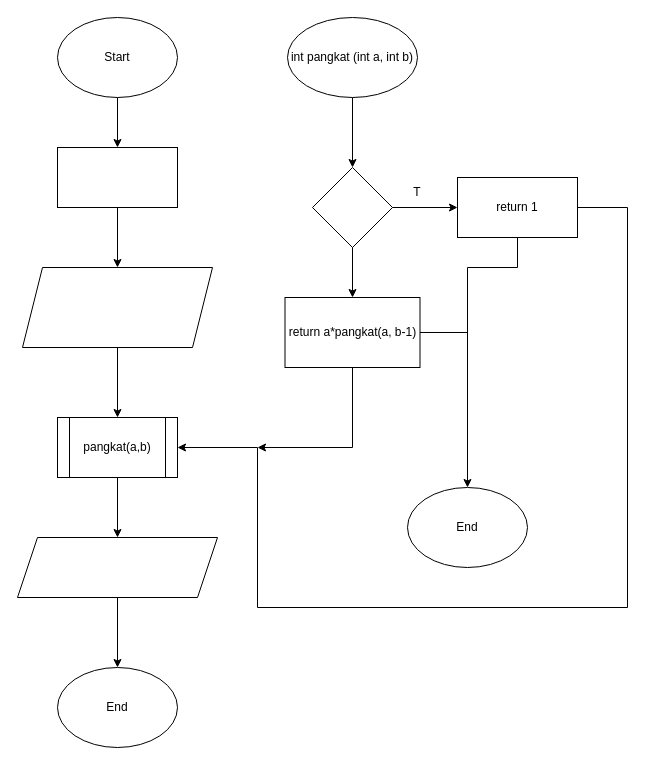
Image size: 653x765. Some labels were removed from this diagram. Here are the shapes that lost their labels. From the top down, the centre of each, then its label:
pixel 117 177: int a, b
pixel 352 207: b==0?
pixel 117 307: print "Masukkan Nilai X = " input a print "Masukkan Nilai Y = " input b
pixel 117 567: Print a " dipangkatkan " b " = " pangkat(a,b)
